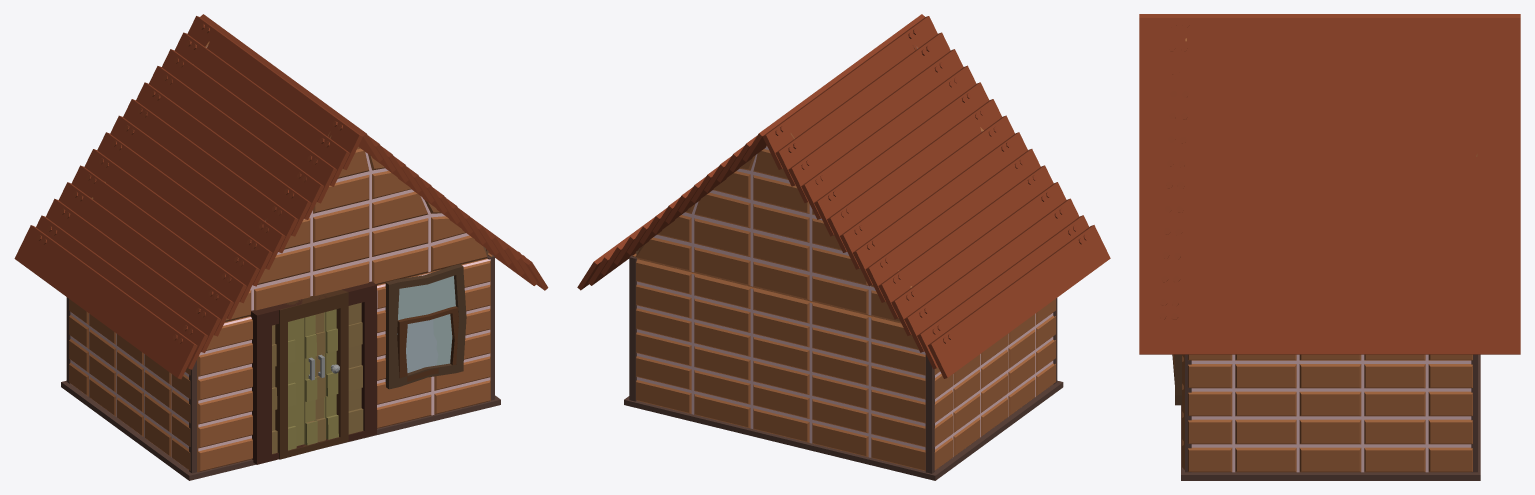
File: Casapdj.fbx
The picture shows the model from 3 angles, left to right: view 1: azimuth 30°, elevation 25°; view 2: azimuth 150°, elevation 25°; view 3: azimuth 270°, elevation 25°; orthographic projection. The views are drawn at different scales.
Visible parts, largest first — view 1: Telhado, paredesTijolo, portaPequena, portaGrande, janelaGrande, base, janelaPequena; view 2: paredesTijolo, Telhado, base; view 3: Telhado, paredesTijolo, base.
Boxes of the visible parts, x1,y1,x2,y2 form: Telhado: (14, 14, 548, 379); paredesTijolo: (69, 41, 492, 472); portaPequena: (271, 289, 348, 459); portaGrande: (250, 281, 376, 464); janelaGrande: (385, 264, 466, 389); base: (61, 254, 500, 480); janelaPequena: (397, 306, 458, 381); paredesTijolo: (632, 46, 1055, 471); Telhado: (577, 14, 1110, 378); base: (624, 255, 1063, 480); Telhado: (1139, 14, 1520, 354); paredesTijolo: (1182, 38, 1477, 472); base: (1181, 354, 1480, 480).
Bounding box in the file's own units: 571 × 473 × 435.
